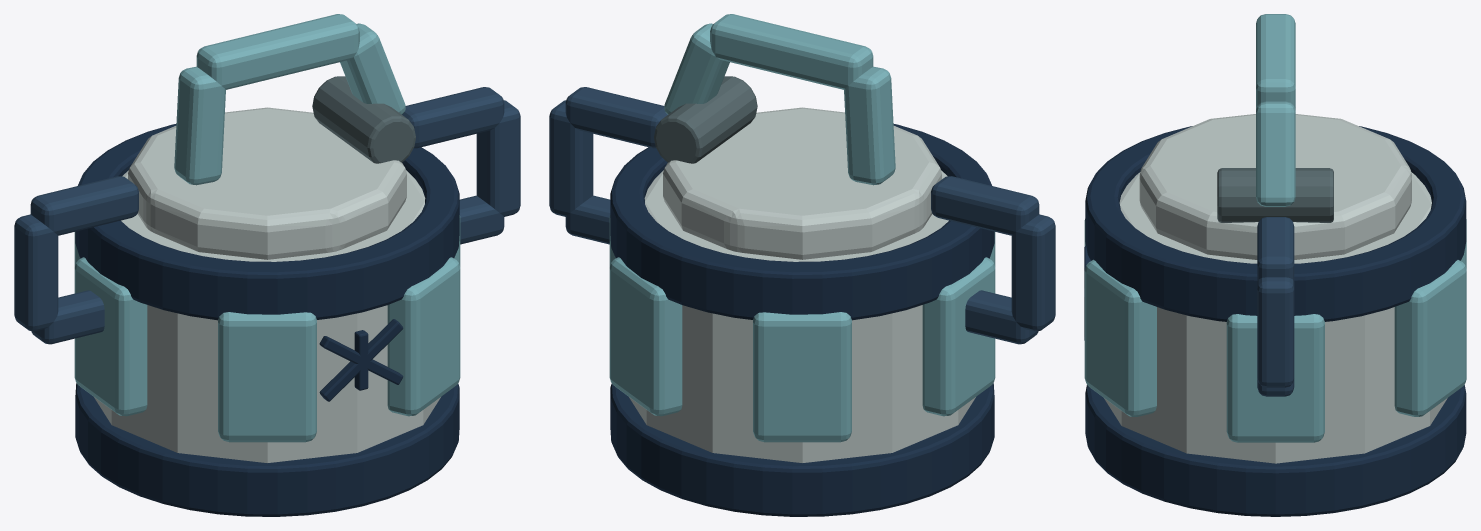
Rendered from FROST_BOMB.hi.glb.
3 views of the same model, side by side, from view 1: azimuth 30°, elevation 25°; view 2: azimuth 150°, elevation 25°; view 3: azimuth 270°, elevation 25° (orthographic).
Parts seen in each view (by area): view 1: Body_Mesh; view 2: Body_Mesh; view 3: Body_Mesh.
Part boxes in pixels (x1,y1,x2,y2): Body_Mesh: (14, 14, 520, 516); Body_Mesh: (549, 14, 1055, 516); Body_Mesh: (1084, 14, 1466, 516).
Bounding box in the file's own units: 0.92 × 0.7125 × 0.623.
